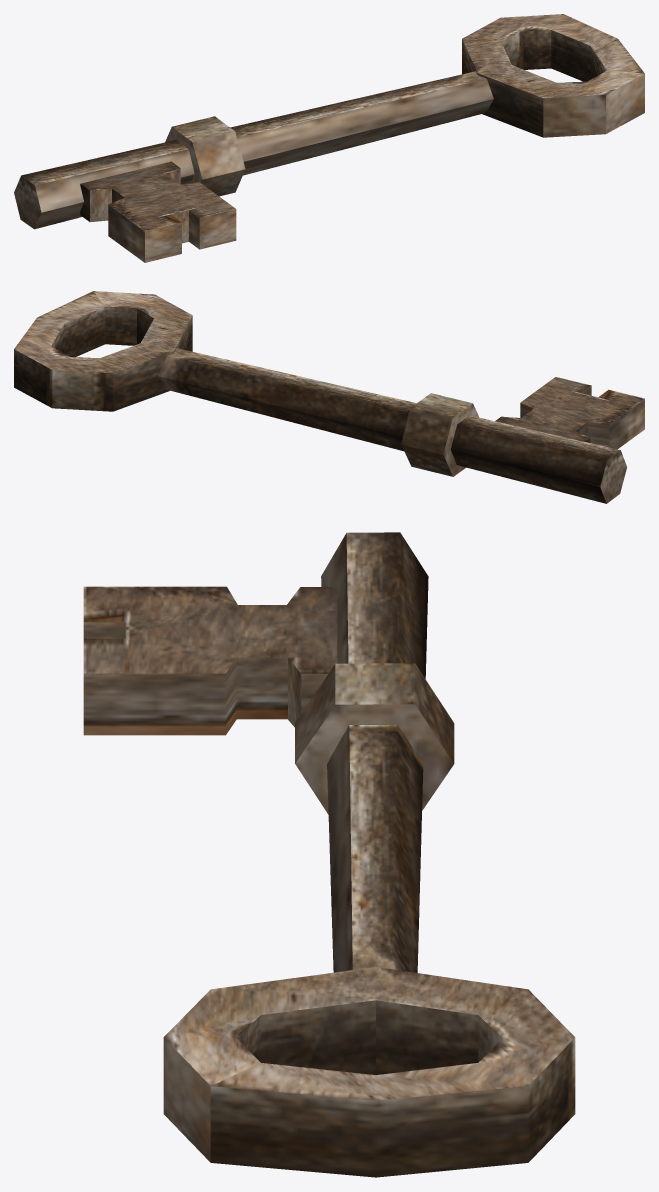
Rendered from mm9_deco_key1.glb.
3 renders of one model, top to bottom at view 1: azimuth 30°, elevation 25°; view 2: azimuth 150°, elevation 25°; view 3: azimuth 270°, elevation 25°, orthographic. The views are drawn at different scales.
Visible parts, largest first — view 1: Key1; view 2: Key1; view 3: Key1.
Part boxes in pixels (<box>): Key1: <box>14,14,644,262</box>; Key1: <box>14,291,644,503</box>; Key1: <box>83,532,575,1177</box>.
Size of the model in its own units: 0.2082 by 0.0206 by 0.0769.
Materials: 2 (2 with a texture image).
